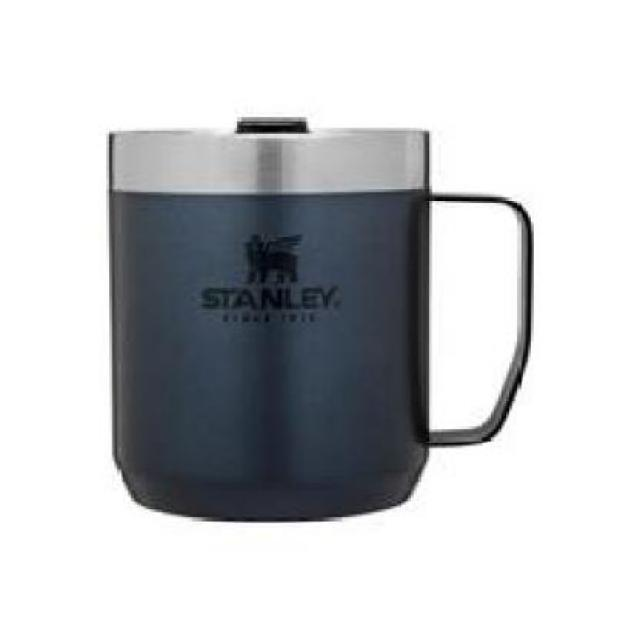taza: (104, 116, 535, 524)
